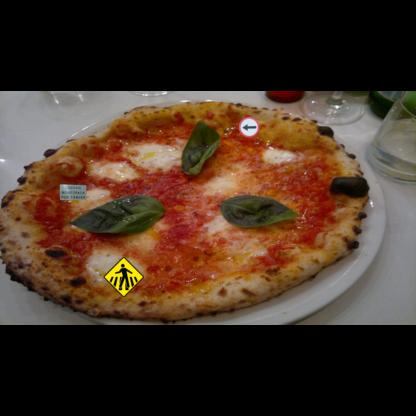A-32b: (103, 256, 144, 298)
I-E: (60, 184, 86, 200)
R-24a: (239, 117, 259, 137)
